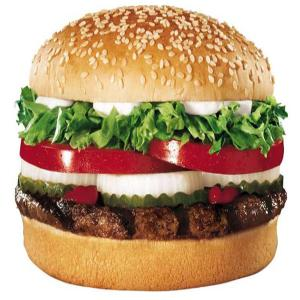cheeseburger_475cal: (12, 5, 290, 288)
